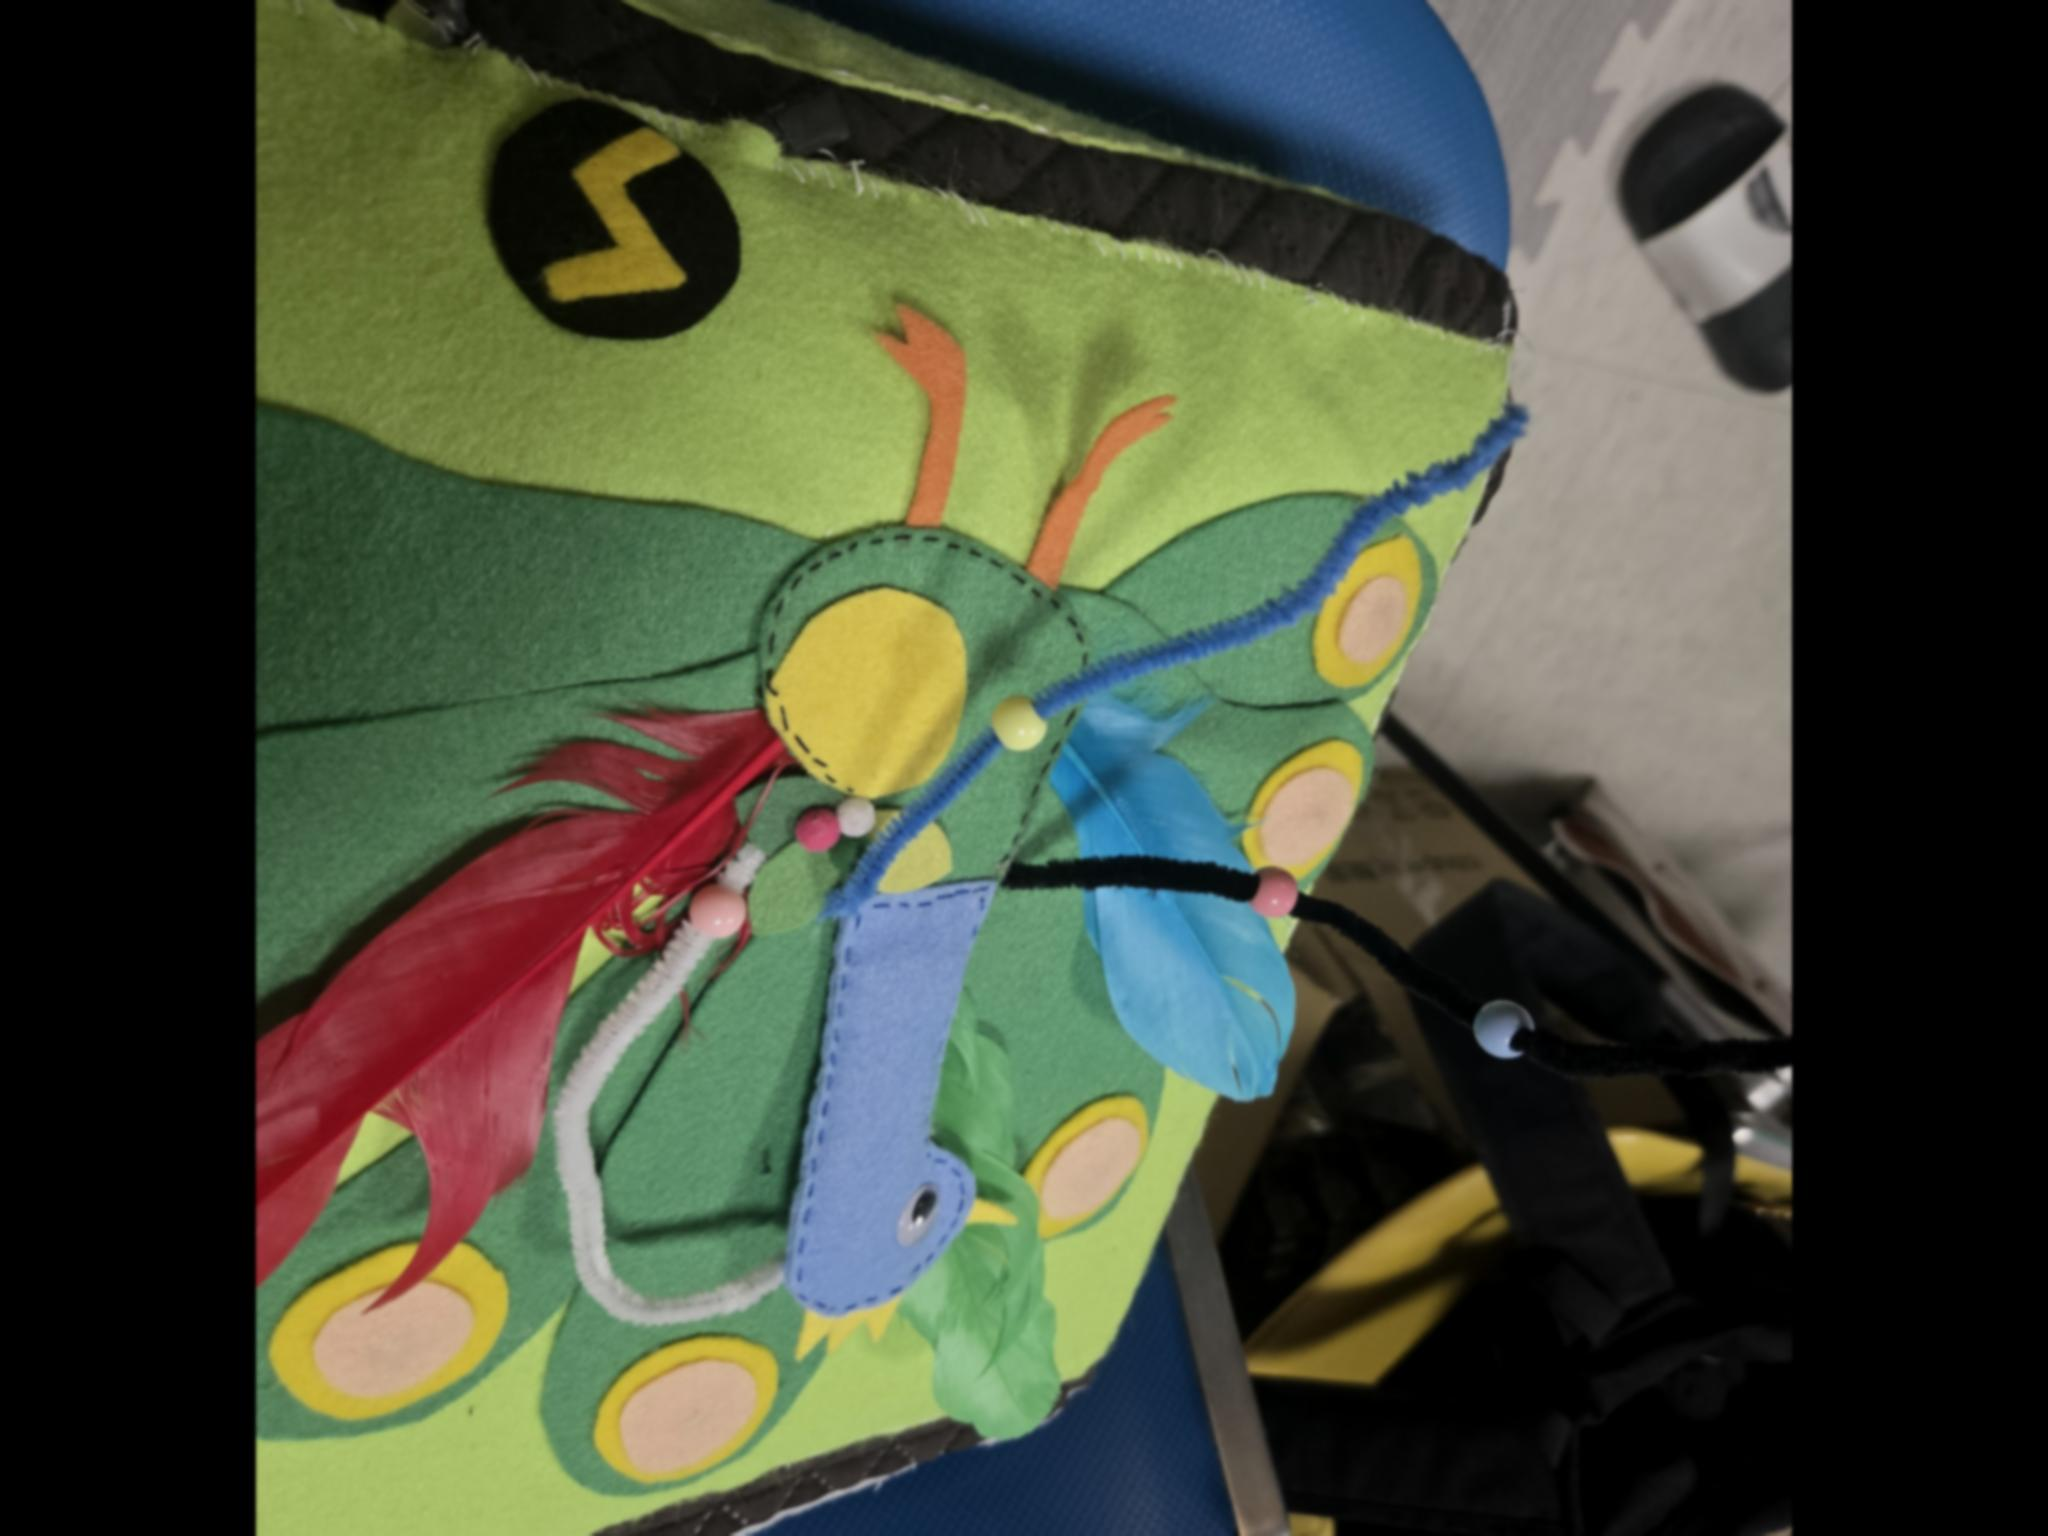bead: (1466, 986, 1548, 1073), (676, 881, 772, 949), (1238, 852, 1321, 928), (985, 676, 1051, 762)
